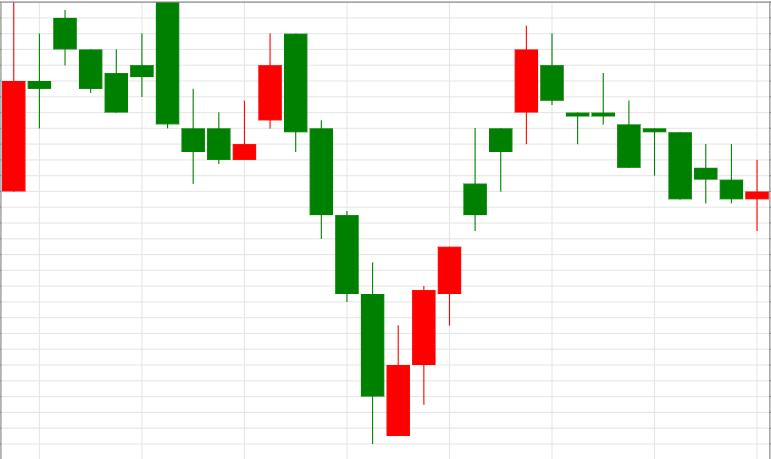shooting_star_fall: (387, 127, 487, 436)
